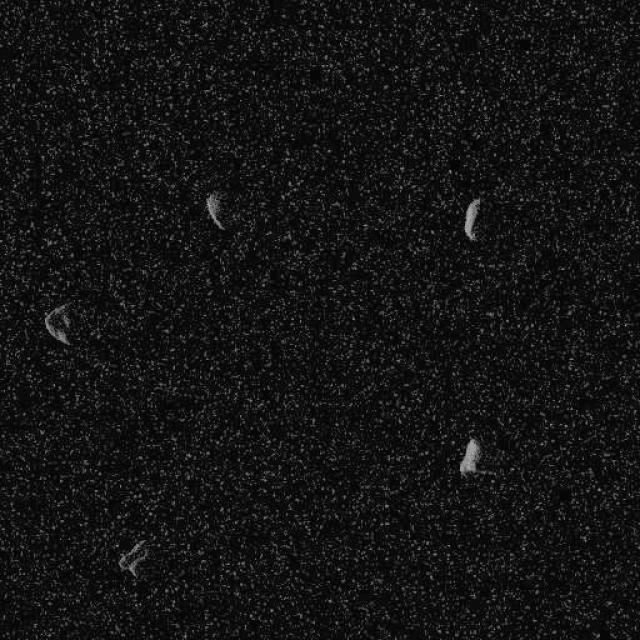D2: (43, 300, 75, 346), (116, 538, 150, 578), (458, 437, 482, 478), (462, 196, 482, 242), (204, 189, 226, 230)
